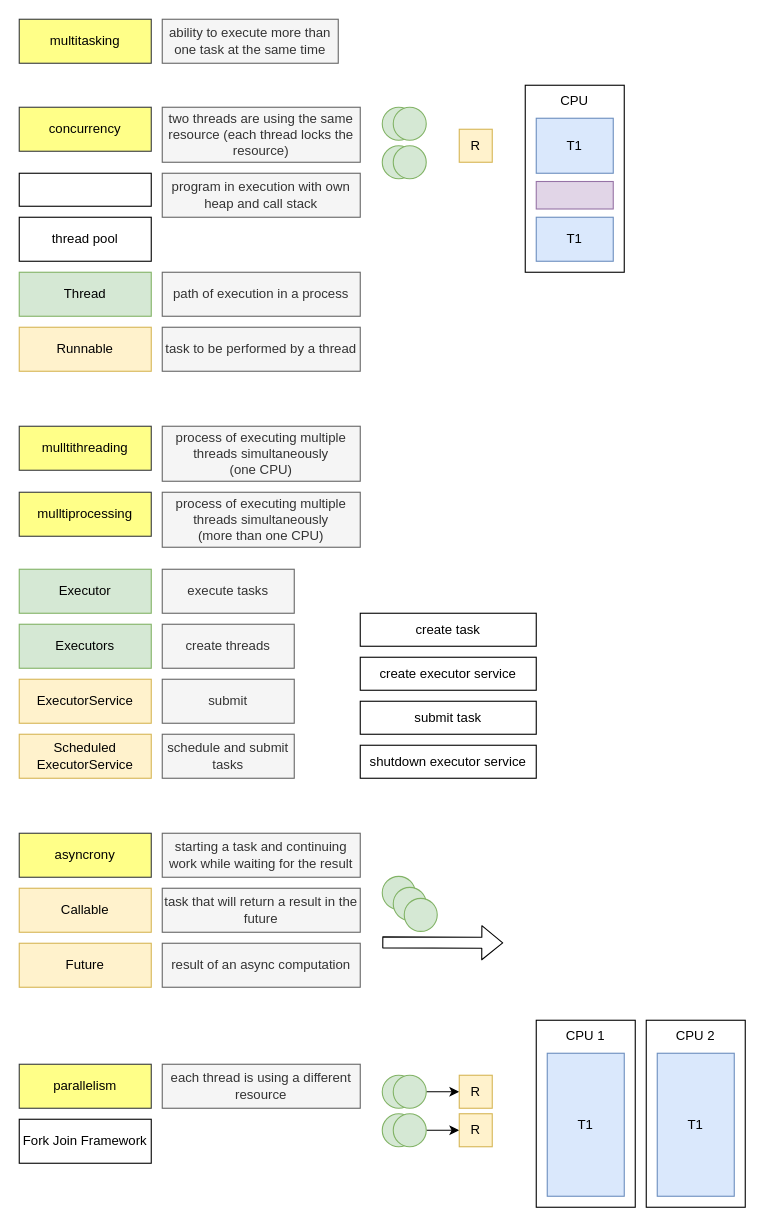
Some shapes in this 765 by 1227 pixel diagram are drawn without their labels. The shapes that lost their labels are listed below. From the top down, each one's centre as x and y in pixels, then its label:
the point at 84,189: process
the point at 574,194: T2
